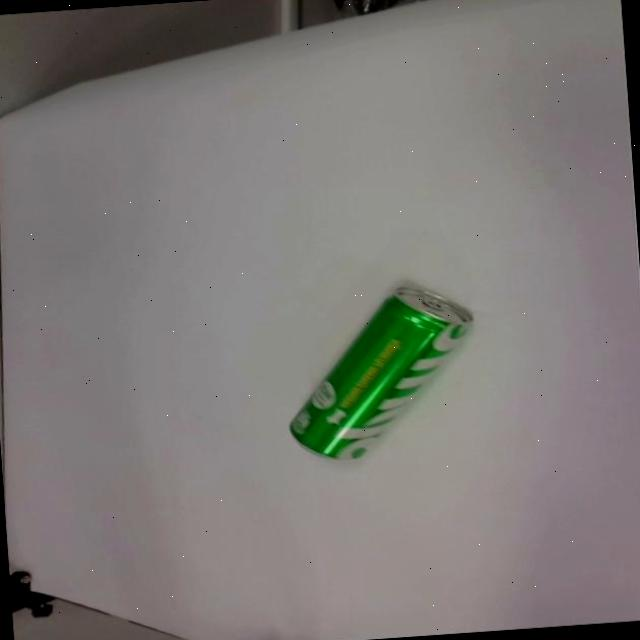debris: (279, 288, 479, 463)
